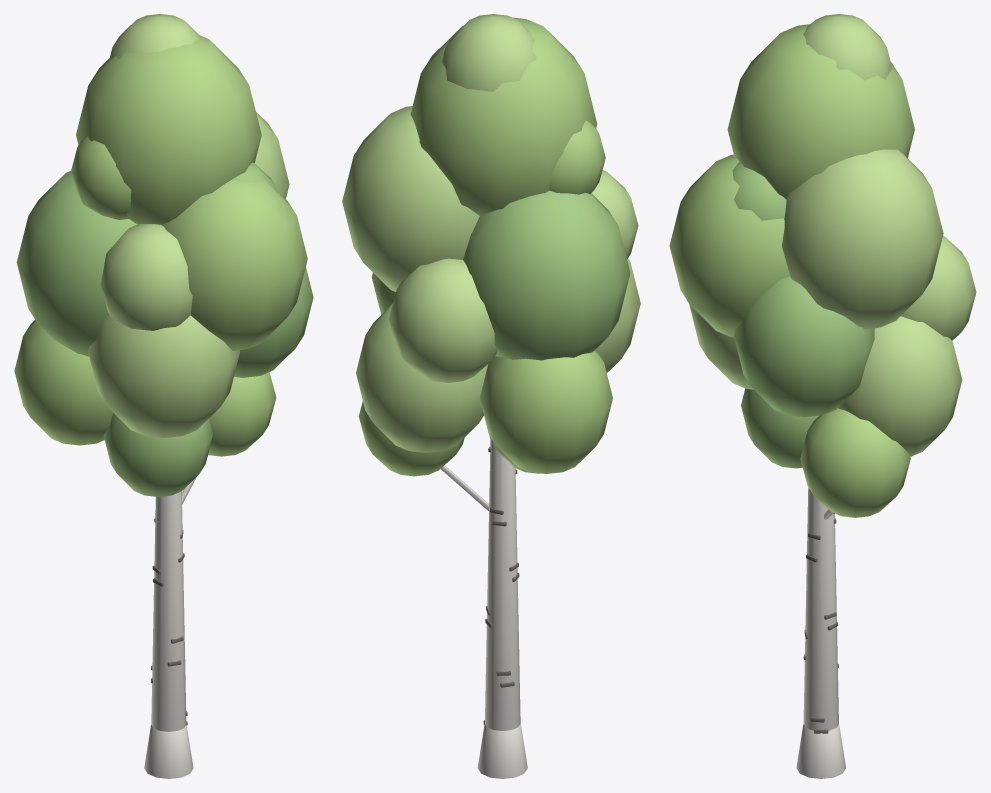
File: th16_baum_birke.glb
3 renders of one model, left to right at view 1: azimuth 30°, elevation 25°; view 2: azimuth 150°, elevation 25°; view 3: azimuth 270°, elevation 25°, orthographic.
Visible parts, largest first — view 1: Sphere.006, Sphere.009, Sphere.010, Sphere.008, Sphere.003, Sphere.012, Cone.001, Sphere.015, Sphere, Sphere.005, Sphere.011, Sphere.014 (+2 smaller); view 2: Sphere.008, Sphere.006, Sphere.007, Sphere.012, Sphere.002, Sphere.013, Cone.001, Sphere.014, Sphere.005, Sphere, Cone, Sphere.010 (+1 smaller); view 3: Sphere.007, Sphere.006, Sphere.011, Sphere.009, Sphere.013, Sphere, Cone.001, Sphere.002, Sphere.014, Sphere.015, Cone, Sphere.004 (+1 smaller).
Boxes of the visible parts, x1,y1,x2,y2 form: Sphere.006: (76, 34, 261, 224); Sphere.009: (162, 180, 307, 350); Sphere.010: (88, 314, 240, 437); Sphere.008: (16, 171, 137, 356); Sphere.003: (100, 224, 192, 330); Sphere.012: (14, 320, 113, 445); Cone.001: (151, 491, 186, 731); Sphere.015: (103, 413, 212, 496); Sphere: (208, 372, 276, 456); Sphere.005: (71, 137, 131, 219); Sphere.011: (234, 267, 313, 377); Sphere.014: (109, 14, 199, 60); Sphere.008: (463, 190, 630, 360); Sphere.006: (410, 17, 597, 215); Sphere.007: (342, 106, 479, 291); Sphere.012: (479, 350, 612, 473); Sphere.002: (389, 258, 496, 382); Sphere.013: (356, 303, 488, 452); Cone.001: (485, 437, 520, 730); Sphere.014: (442, 14, 536, 91); Sphere.005: (549, 120, 605, 194); Sphere: (358, 401, 464, 476); Cone: (477, 724, 527, 778); Sphere.010: (595, 258, 640, 372); Sphere.007: (782, 149, 943, 329); Sphere.006: (727, 24, 914, 199); Sphere.011: (734, 276, 874, 417); Sphere.009: (669, 154, 790, 337); Sphere.013: (838, 316, 962, 456); Sphere: (800, 408, 910, 517); Cone.001: (803, 487, 838, 730); Sphere.002: (901, 235, 976, 340); Sphere.014: (803, 14, 892, 80); Sphere.015: (741, 388, 818, 468); Cone: (796, 724, 845, 778); Sphere.004: (732, 161, 786, 220).
Bounding box in the file's own units: 3.33 × 9.28 × 3.44.
